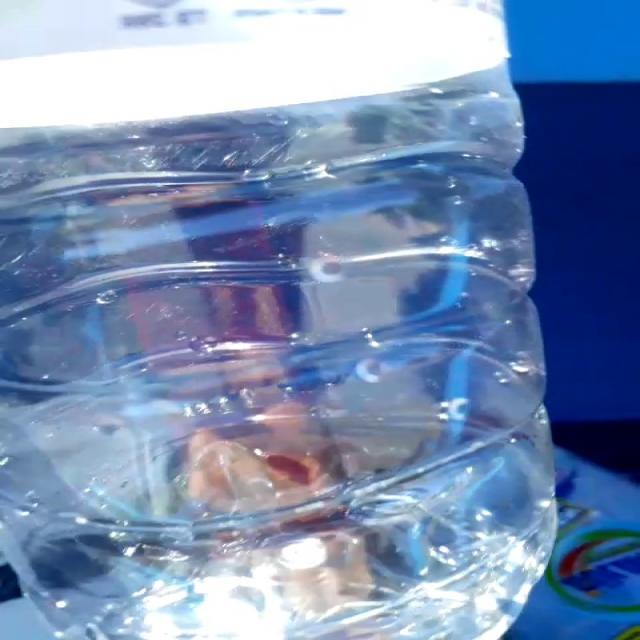plastic: (1, 0, 555, 640)
